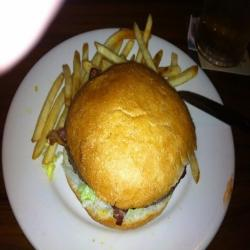burger: (56, 59, 200, 233)
fries: (45, 32, 200, 88)
